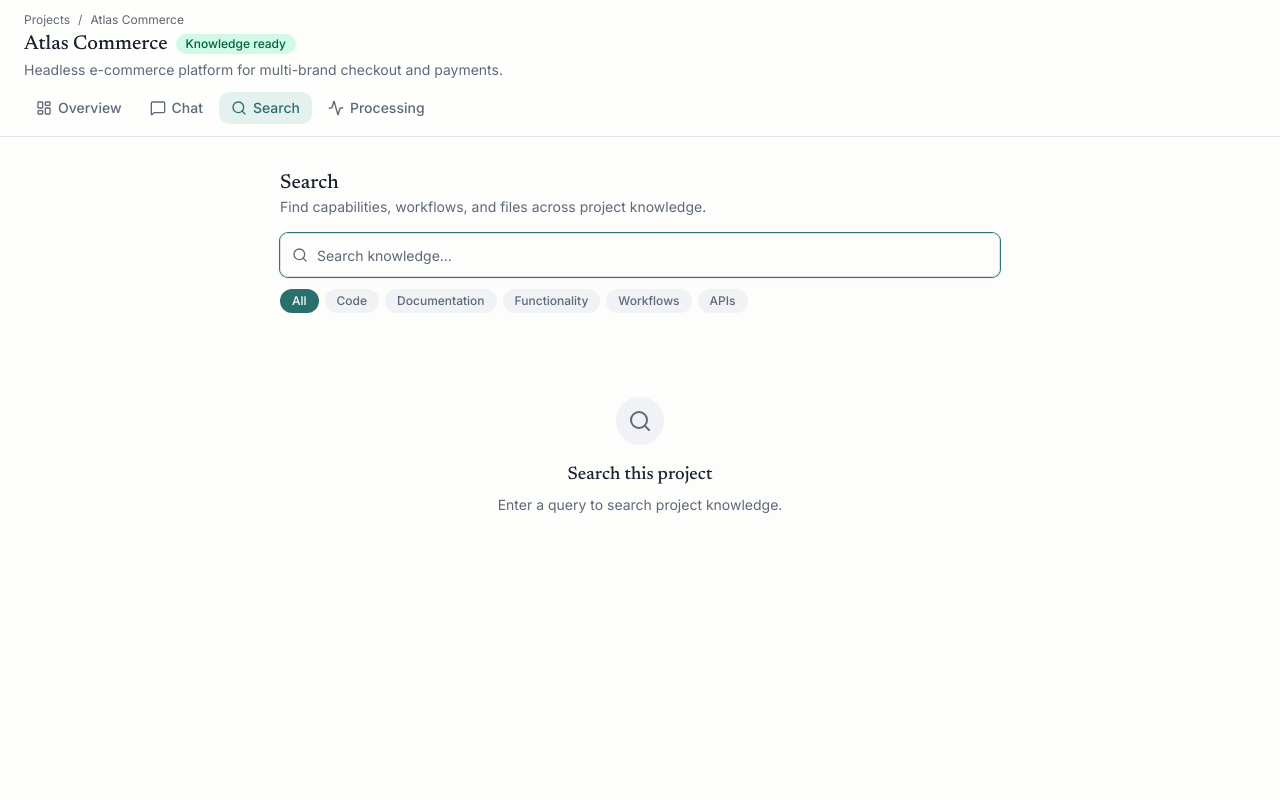
SearchPanel › shows a network error as an alert
Expected: the heading "Search" is shown, x1=280 y1=173 x2=339 y2=193
In the field with placeholder "Search knowledge…": (640, 255) x1=280 y1=233 x2=1000 y2=277, type "refund"
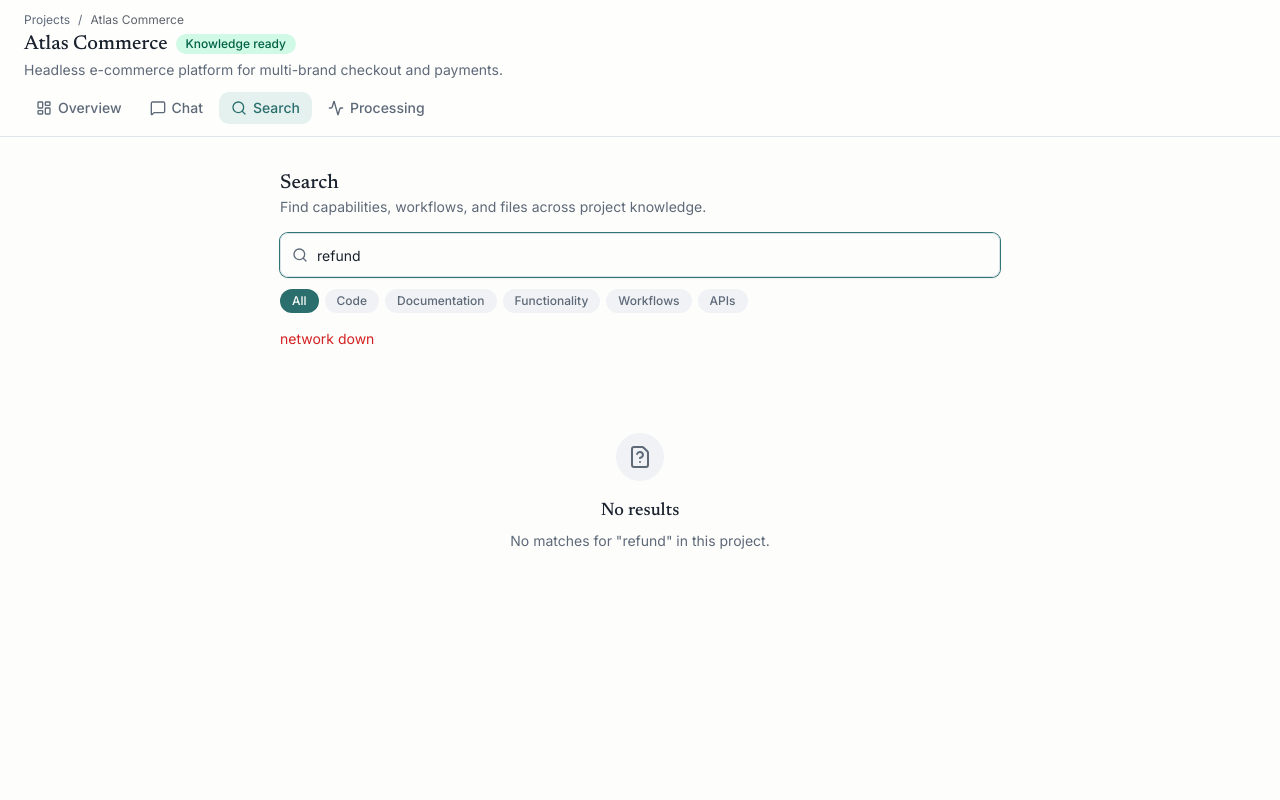
Now the text "network down" is shown, box x1=280 y1=330 x2=374 y2=347
